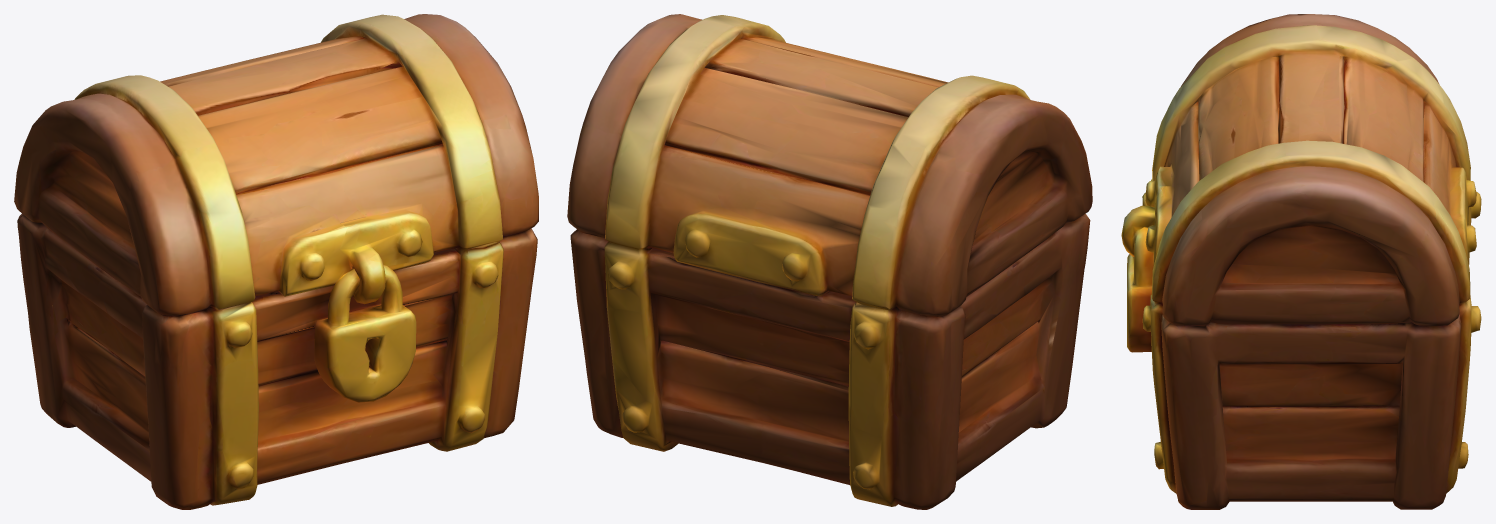
File: chest-closed.glb
3 views of the same model, side by side, from view 1: azimuth 30°, elevation 25°; view 2: azimuth 150°, elevation 25°; view 3: azimuth 270°, elevation 25° (orthographic). The views are drawn at different scales.
Visible parts, largest first — view 1: tripo_node_56b4980b-c46f-4c4c-be43-27bd76265289; view 2: tripo_node_56b4980b-c46f-4c4c-be43-27bd76265289; view 3: tripo_node_56b4980b-c46f-4c4c-be43-27bd76265289.
Part boxes in pixels (<box>): tripo_node_56b4980b-c46f-4c4c-be43-27bd76265289: <box>14,14,538,509</box>; tripo_node_56b4980b-c46f-4c4c-be43-27bd76265289: <box>567,14,1092,509</box>; tripo_node_56b4980b-c46f-4c4c-be43-27bd76265289: <box>1121,14,1481,509</box>.
Bounding box in the file's own units: 0.9999 × 0.9157 × 0.8551.
Materials: 1 (1 with a texture image).
